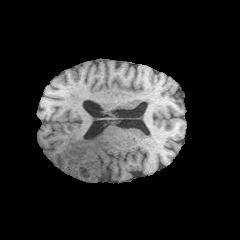glioma: (63, 135, 118, 180)
